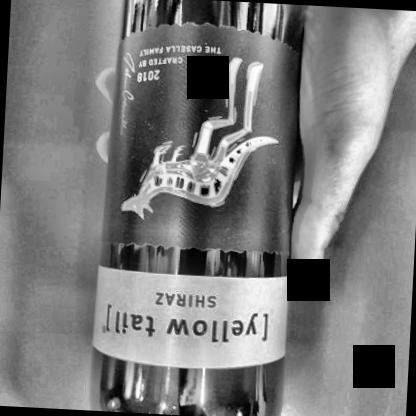yellowtail: (94, 29, 302, 372)
